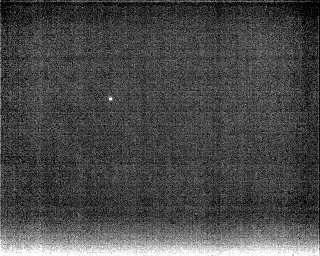BIRD: (106, 94, 116, 105)
